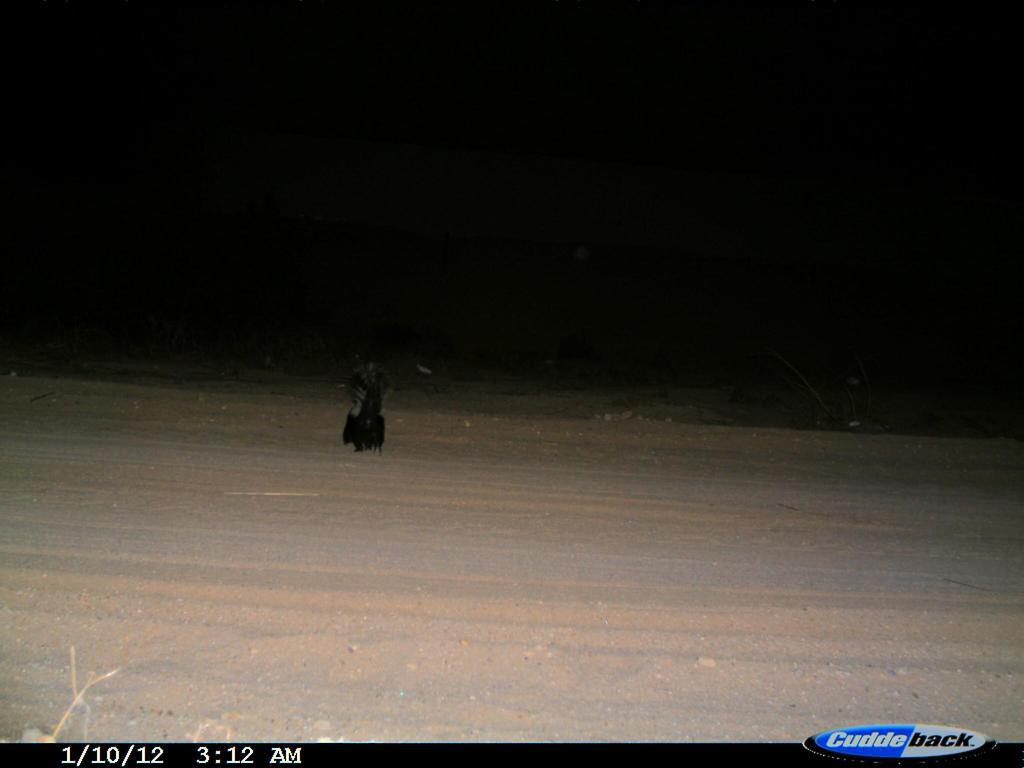skunk: (329, 353, 401, 466)
